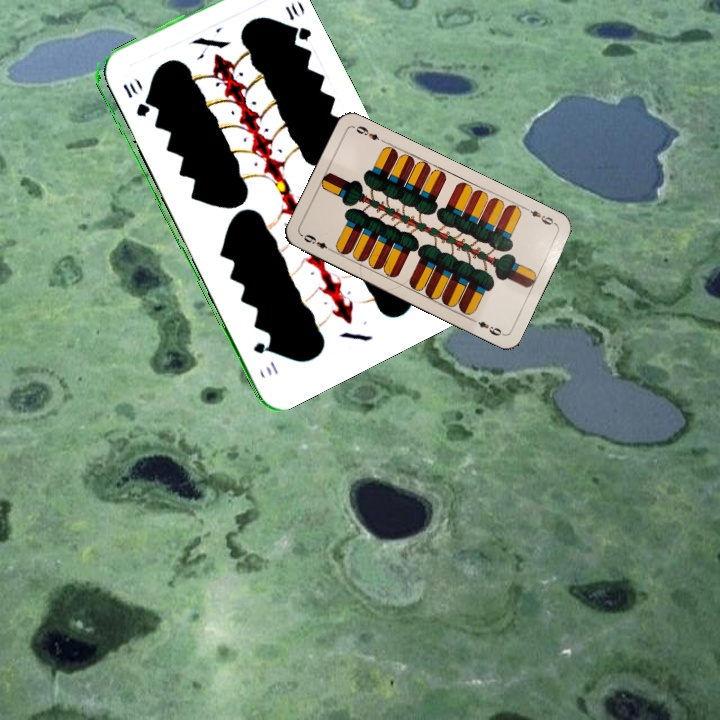E9: (298, 230, 336, 255), (521, 204, 559, 228)
G10: (119, 79, 149, 120)
